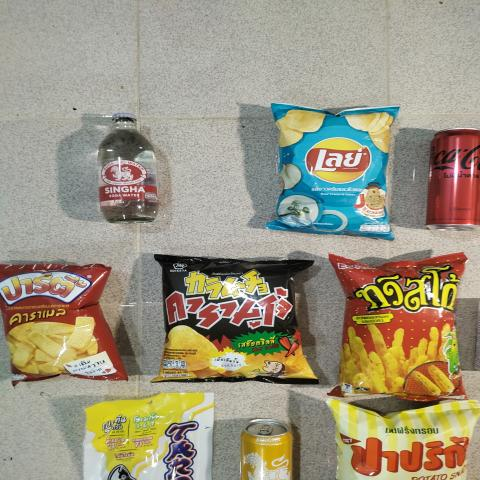coke_red: (425, 123, 480, 230)
karamujo: (160, 254, 302, 378)
lay_blue: (281, 112, 386, 231)
party_red: (9, 266, 106, 380)
singha_soda: (91, 104, 171, 230)
singha_yellow: (237, 419, 301, 480)
taro_yellow: (88, 400, 210, 480)
twisco: (348, 263, 464, 390)
